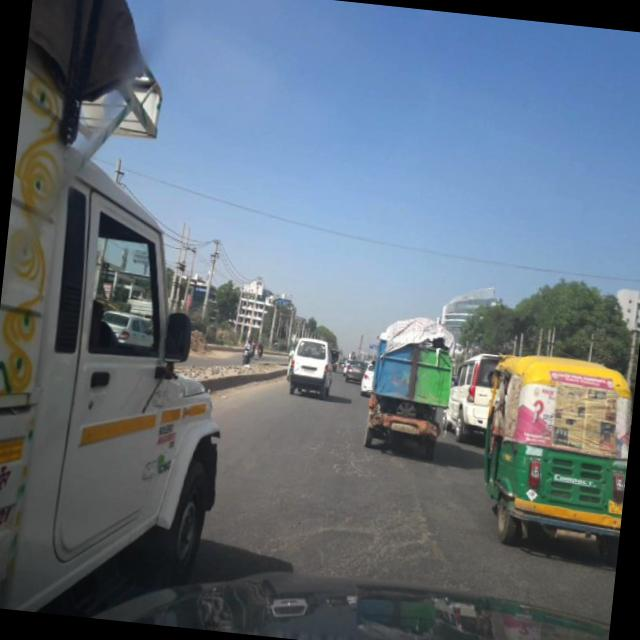crack: (252, 436, 466, 578)
